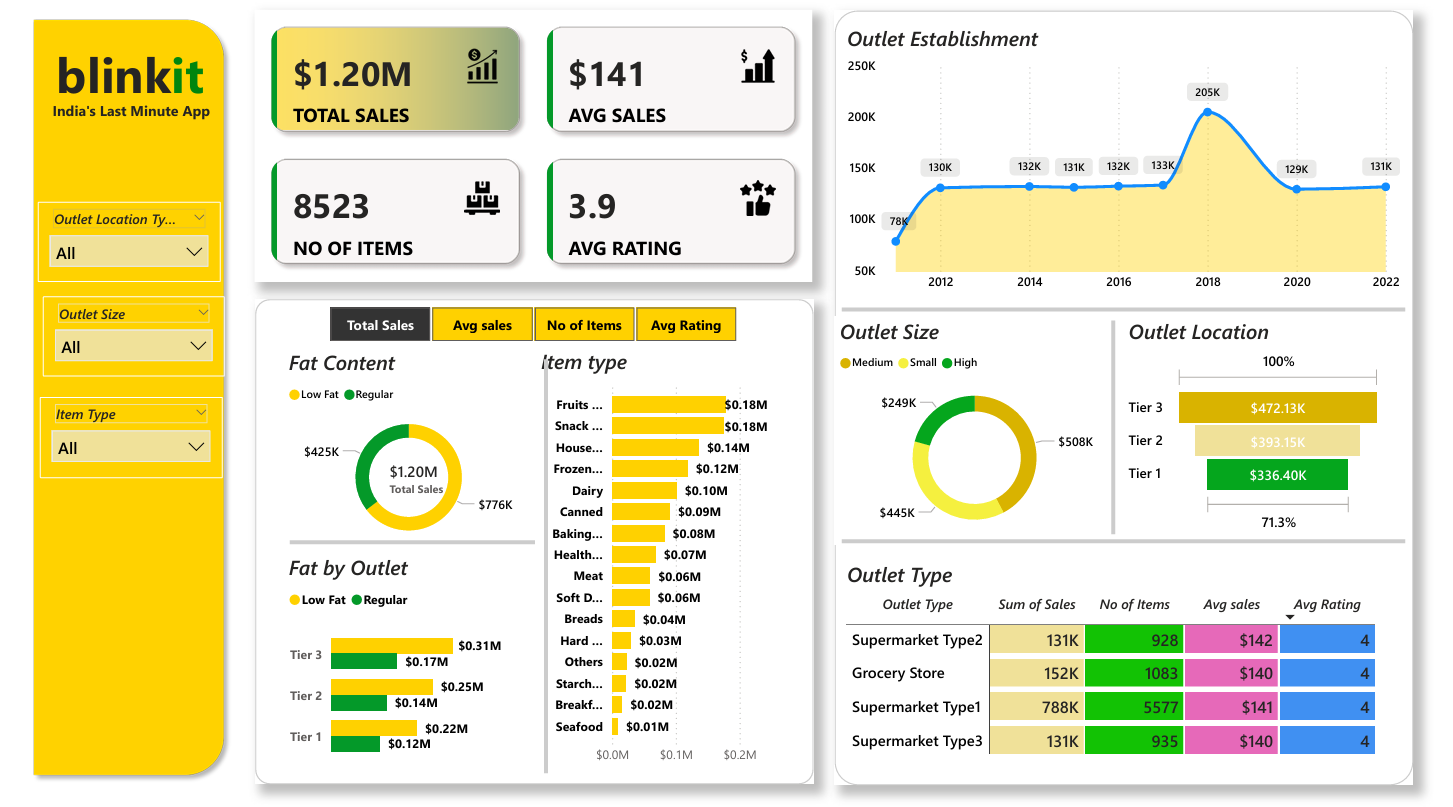

What the dashboard file says about the page in this screenshot:
{"tool":"powerbi","page":{"name":"Page 1","canvas":[1400,800],"ordinal":0},"visuals":[{"type":"shape","box":[9.4,13.5,205,761.7],"z":0},{"type":"textbox","box":[21.8,97.8,183.8,33.6],"z":1000},{"type":"textbox","box":[23.6,37.7,178.5,76],"z":2000},{"type":"cardVisual","fields":{"Data":["BlinkIT Grocery Data.Total Sales","BlinkIT Grocery Data.Avg sales","BlinkIT Grocery Data.No of Items","BlinkIT Grocery Data.Avg Rating"]},"box":[235,12.7,549.4,268],"z":3000},{"type":"shape","box":[235.6,298.1,549.6,477.2],"z":4000},{"type":"donutChart","title":" Fat Content","fields":{"Y":["BlinkIT Grocery Data.Total Sales"],"Category":["BlinkIT Grocery Data.Item Fat Content"]},"box":[263.9,345.8,245.7,201.5],"z":5000},{"type":"slicer","fields":{"Values":["Metrics.Metrics"]},"box":[283.5,299.1,449.7,46.5],"z":6000},{"type":"cardVisual","fields":{"Data":["BlinkIT Grocery Data.Total Sales"]},"box":[350.5,430.6,102.5,86.6],"z":7000},{"type":"clusteredBarChart","title":"Fat by Outlet","fields":{"Y":["BlinkIT Grocery Data.Total Sales"],"Category":["BlinkIT Grocery Data.Outlet Location Type"],"Series":["BlinkIT Grocery Data.Item Fat Content"]},"box":[263.9,547.3,219.2,219.2],"z":8000},{"type":"shape","box":[270.3,494,241.5,86.4],"z":9000},{"type":"shape","box":[1050,314.6,39.9,221.5],"z":10000},{"type":"clusteredBarChart","title":"Item type","fields":{"Y":["BlinkIT Grocery Data.Total Sales"],"Category":["BlinkIT Grocery Data.Item Type"]},"box":[511.9,345,250.3,418.7],"z":11000},{"type":"shape","box":[805.9,14.1,569.1,761.7],"z":12000},{"type":"lineChart","title":"Outlet Establishment","fields":{"Category":["BlinkIT Grocery Data.Outlet Establishment Year"],"Y":["Sum(BlinkIT Grocery Data.Sales)"]},"box":[813,26.6,553.8,272.5],"z":13000},{"type":"shape","box":[813,294.6,553.8,26.6],"z":13001},{"type":"donutChart","title":"Outlet Size","fields":{"Y":["BlinkIT Grocery Data.Total Sales"],"Category":["BlinkIT Grocery Data.Outlet Size"]},"box":[806.3,314.6,275,225],"z":13002},{"type":"shape","box":[502.8,356.6,37.7,407.6],"z":13003},{"type":"funnel","title":"Outlet Location","fields":{"Category":["BlinkIT Grocery Data.Outlet Location Type"],"Y":["BlinkIT Grocery Data.Total Sales"]},"box":[1089.9,314.6,259.2,217.1],"z":13004},{"type":"shape","box":[1061.1,319,37.7,210.4],"z":13005},{"type":"shape","box":[813,522.8,553.8,26.6],"z":13006},{"type":"pivotTable","title":"Outlet Type","fields":{"Rows":["BlinkIT Grocery Data.Outlet Type"],"Values":["Sum(BlinkIT Grocery Data.Sales)","BlinkIT Grocery Data.No of Items","BlinkIT Grocery Data.Avg sales","BlinkIT Grocery Data.Avg Rating"]},"box":[813,553.8,553.8,210.4],"z":13007},{"type":"slicer","fields":{"Values":["BlinkIT Grocery Data.Outlet Location Type"]},"box":[22.2,201.6,179.4,79.7],"z":13008},{"type":"slicer","fields":{"Values":["BlinkIT Grocery Data.Outlet Size"]},"box":[26.6,294.6,179.4,79.7],"z":13009},{"type":"slicer","fields":{"Values":["BlinkIT Grocery Data.Item Type"]},"box":[24.4,394.3,179.4,79.7],"z":13010}]}

Visuals, with their boxes in screenshot pixels (x1, y1, x2, y2), scaled from the page's 1400x800 canvas onto the 1453x807 screenshot:
shape: {"left": 10, "top": 14, "right": 223, "bottom": 782}
textbox: {"left": 23, "top": 99, "right": 213, "bottom": 133}
textbox: {"left": 24, "top": 38, "right": 210, "bottom": 115}
cardVisual - BlinkIT Grocery Data.Total Sales x BlinkIT Grocery Data.Avg sales: {"left": 244, "top": 13, "right": 814, "bottom": 283}
shape: {"left": 245, "top": 301, "right": 815, "bottom": 782}
" Fat Content" donutChart: {"left": 274, "top": 349, "right": 529, "bottom": 552}
slicer - Metrics.Metrics: {"left": 294, "top": 302, "right": 761, "bottom": 349}
cardVisual - BlinkIT Grocery Data.Total Sales: {"left": 364, "top": 434, "right": 470, "bottom": 522}
"Fat by Outlet" clusteredBarChart: {"left": 274, "top": 552, "right": 501, "bottom": 773}
shape: {"left": 281, "top": 498, "right": 531, "bottom": 585}
shape: {"left": 1090, "top": 317, "right": 1131, "bottom": 541}
"Item type" clusteredBarChart: {"left": 531, "top": 348, "right": 791, "bottom": 770}
shape: {"left": 836, "top": 14, "right": 1427, "bottom": 783}
"Outlet Establishment" lineChart: {"left": 844, "top": 27, "right": 1419, "bottom": 302}
shape: {"left": 844, "top": 297, "right": 1419, "bottom": 324}
"Outlet Size" donutChart: {"left": 837, "top": 317, "right": 1122, "bottom": 544}
shape: {"left": 522, "top": 360, "right": 561, "bottom": 771}
"Outlet Location" funnel: {"left": 1131, "top": 317, "right": 1400, "bottom": 536}
shape: {"left": 1101, "top": 322, "right": 1140, "bottom": 534}
shape: {"left": 844, "top": 527, "right": 1419, "bottom": 554}
"Outlet Type" pivotTable: {"left": 844, "top": 559, "right": 1419, "bottom": 771}
slicer - BlinkIT Grocery Data.Outlet Location Type: {"left": 23, "top": 203, "right": 209, "bottom": 284}
slicer - BlinkIT Grocery Data.Outlet Size: {"left": 28, "top": 297, "right": 214, "bottom": 378}
slicer - BlinkIT Grocery Data.Item Type: {"left": 25, "top": 398, "right": 212, "bottom": 478}
